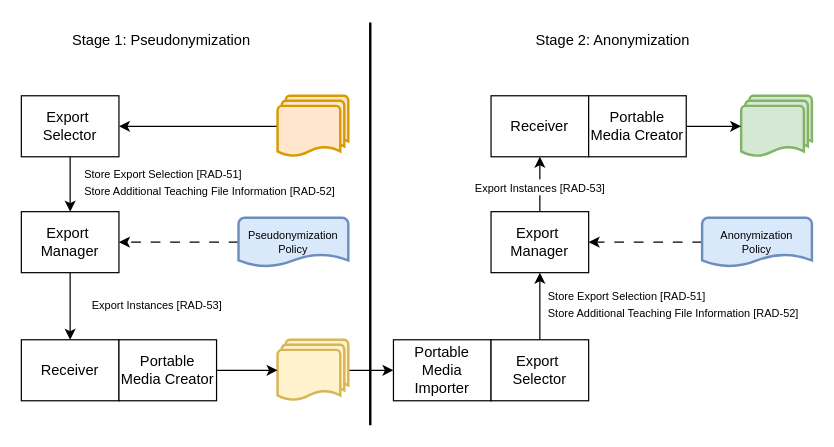
Image size: 834x447. Some labels were removed from this diagram. Each missing label, with the centre of its shape:
"DICOM Files (A)" goes at point (776, 125).
"DICOM Files (I)" goes at point (312, 125).
"DICOM Files (P)" goes at point (312, 369).
